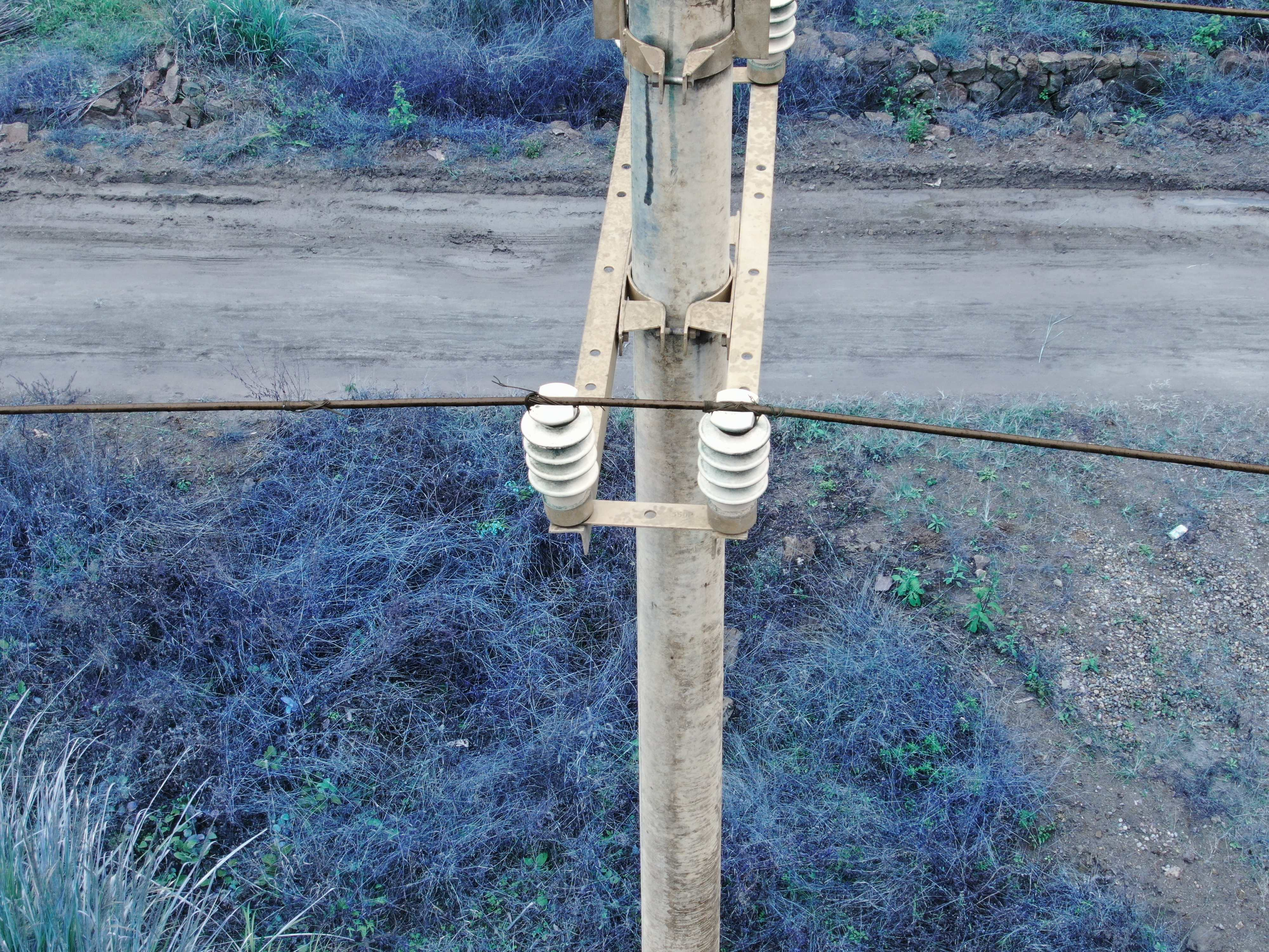severe_soiling_no_discharge_whole: (516, 379, 603, 529)
